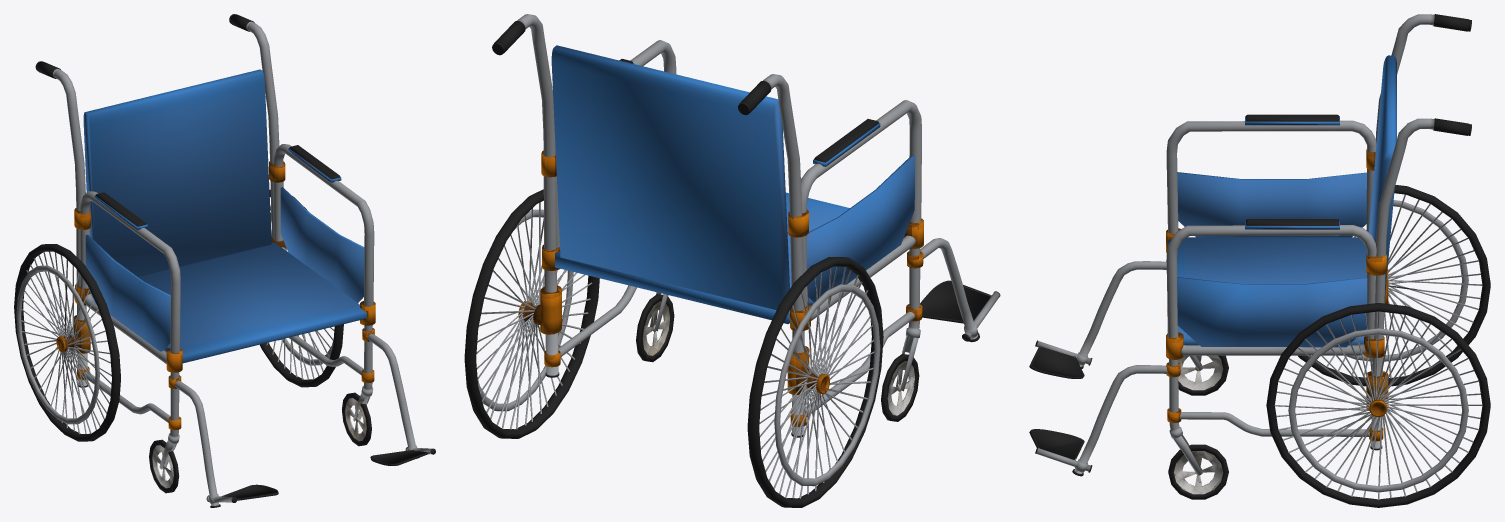
The model's file is Wheel_chair.glb.
3 renders of one model, left to right at view 1: azimuth 30°, elevation 25°; view 2: azimuth 150°, elevation 25°; view 3: azimuth 270°, elevation 25°, orthographic. The views are drawn at different scales.
Parts seen in each view (by area): view 1: Wheel_chair.001; view 2: Wheel_chair.001; view 3: Wheel_chair.001.
Boxes of the visible parts, x1=… form: Wheel_chair.001: x1=14, y1=14, x2=435, y2=507; Wheel_chair.001: x1=464, y1=14, x2=1000, y2=507; Wheel_chair.001: x1=1029, y1=14, x2=1490, y2=507.
Size of the model in its own units: 1.01 by 1.35 by 1.49.
Materials: 1 (1 with a texture image).
